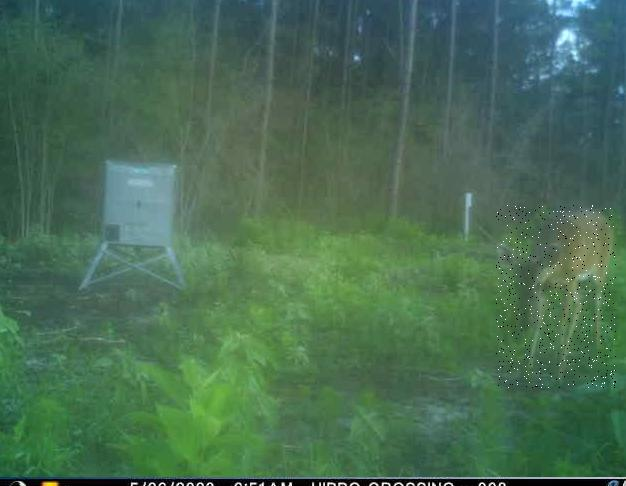Deer: (496, 205, 616, 388)
